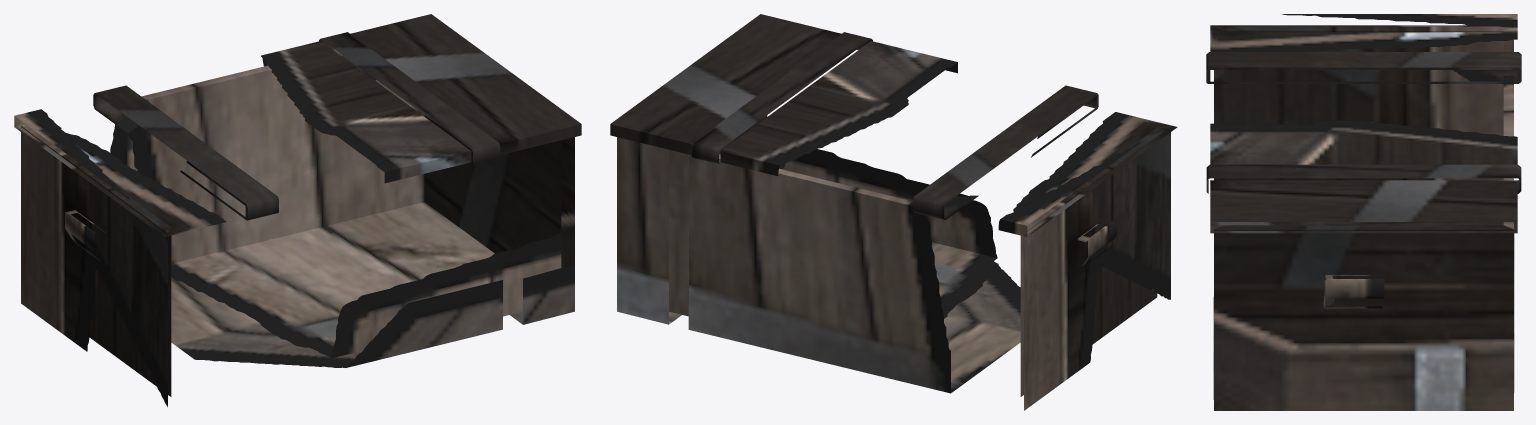
The model's file is Crate.fbx.
3 views of the same model, side by side, from view 1: azimuth 30°, elevation 25°; view 2: azimuth 150°, elevation 25°; view 3: azimuth 270°, elevation 25° (orthographic). The views are drawn at different scales.
Visible parts, largest first — view 1: Crate, Top Crate; view 2: Crate, Top Crate; view 3: Crate, Top Crate.
Part boxes in pixels (x1,y1,x2,y2): Crate: (21,49,574,406); Top Crate: (14,14,581,236); Crate: (617,115,1170,410); Top Crate: (610,14,1177,236); Crate: (1213,26,1514,410); Top Crate: (1206,14,1521,233).
Size of the model in its own units: 0.9585 by 0.4216 by 0.5997.
